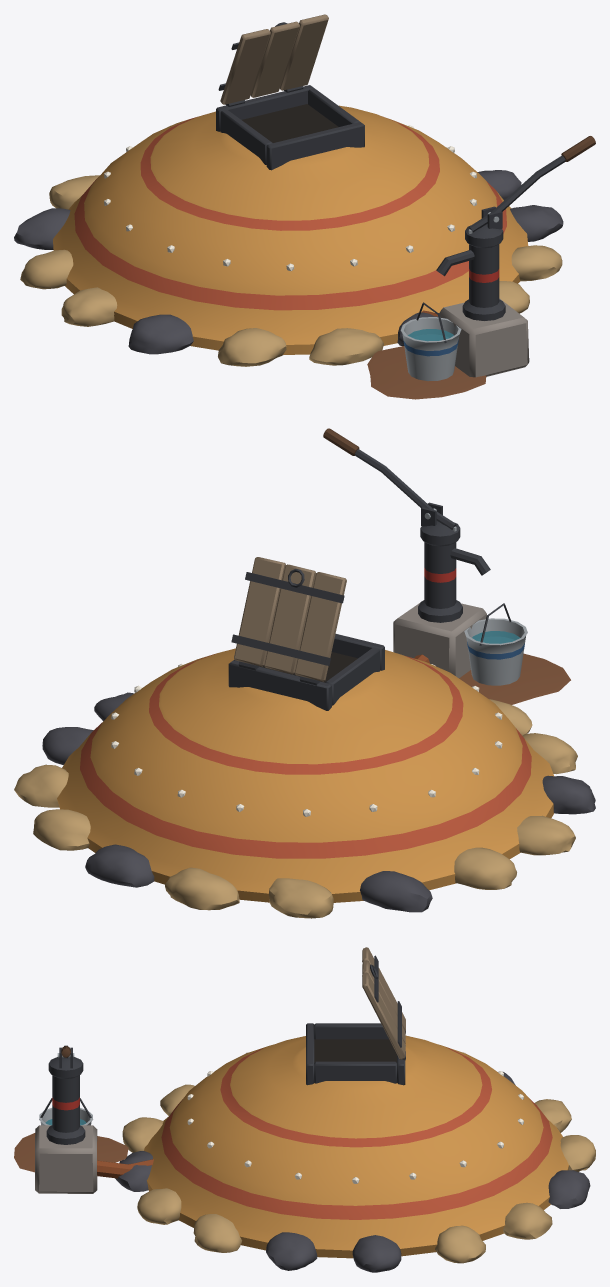
The model's file is deco_cistern_dome.fbx.
The picture shows the model from 3 angles, top to bottom: view 1: azimuth 30°, elevation 25°; view 2: azimuth 150°, elevation 25°; view 3: azimuth 270°, elevation 25°; orthographic projection. The views are drawn at different scales.
Visible parts, largest first — view 1: CisternDome_Dome, CisternDome_Pump, CisternDome_Hatch, CisternDome_Lever; view 2: CisternDome_Dome, CisternDome_Pump, CisternDome_Hatch, CisternDome_Lever; view 3: CisternDome_Dome, CisternDome_Pump, CisternDome_Hatch.
Boxes of the visible parts, x1,y1,x2,y2 form: CisternDome_Dome: [14, 85, 563, 366]; CisternDome_Pump: [367, 206, 529, 399]; CisternDome_Hatch: [218, 14, 328, 106]; CisternDome_Lever: [468, 136, 595, 244]; CisternDome_Dome: [14, 634, 595, 918]; CisternDome_Pump: [393, 502, 570, 704]; CisternDome_Hatch: [231, 557, 346, 685]; CisternDome_Lever: [323, 428, 456, 531]; CisternDome_Dome: [115, 1023, 595, 1272]; CisternDome_Pump: [14, 1047, 153, 1193]; CisternDome_Hatch: [362, 947, 405, 1060].
Size of the model in its own units: 360 by 164 by 422.
